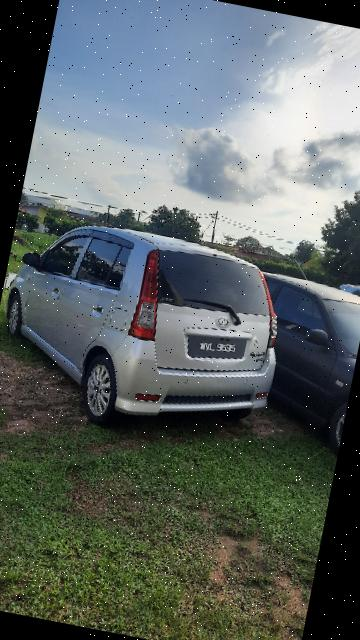License_Plate: (184, 327, 258, 369)
car: (1, 204, 302, 448)
